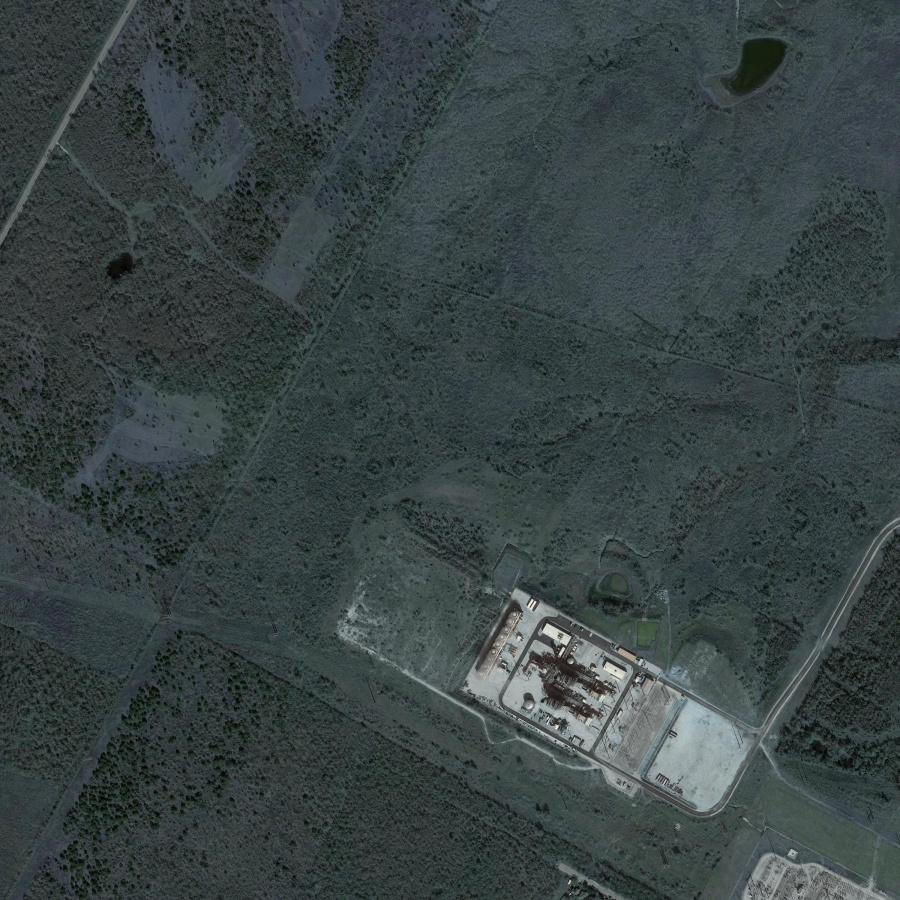PowerPlant: (466, 591, 676, 781)
